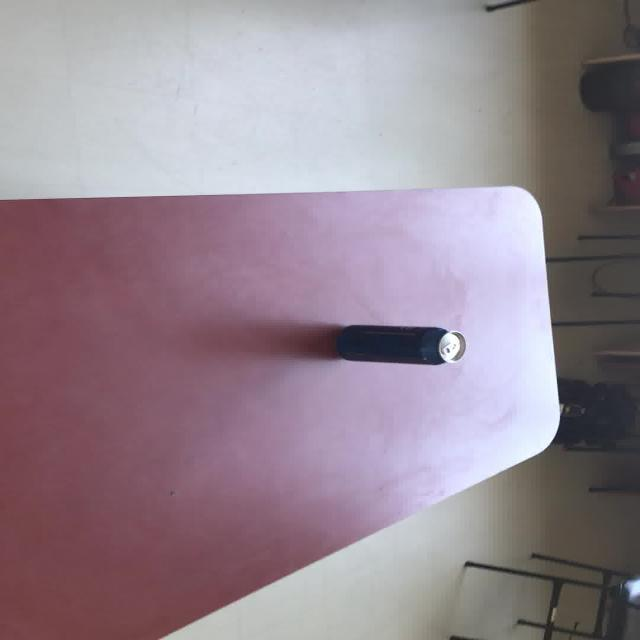tonic: (334, 323, 466, 365)
